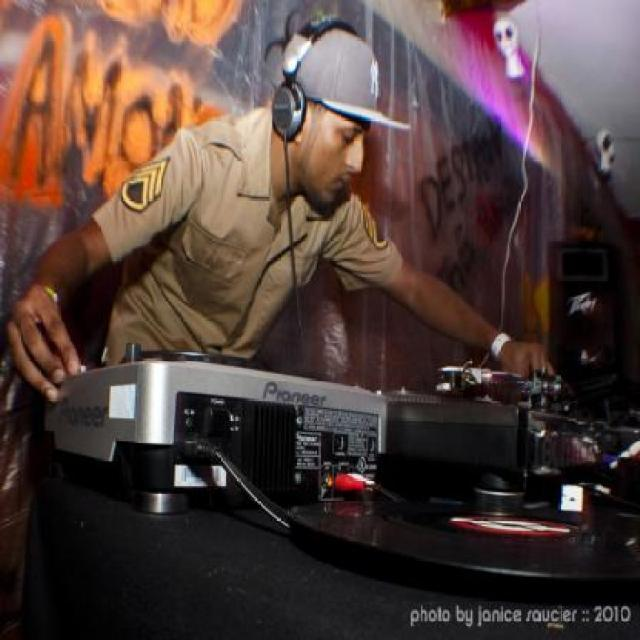earphone: (257, 2, 350, 132)
